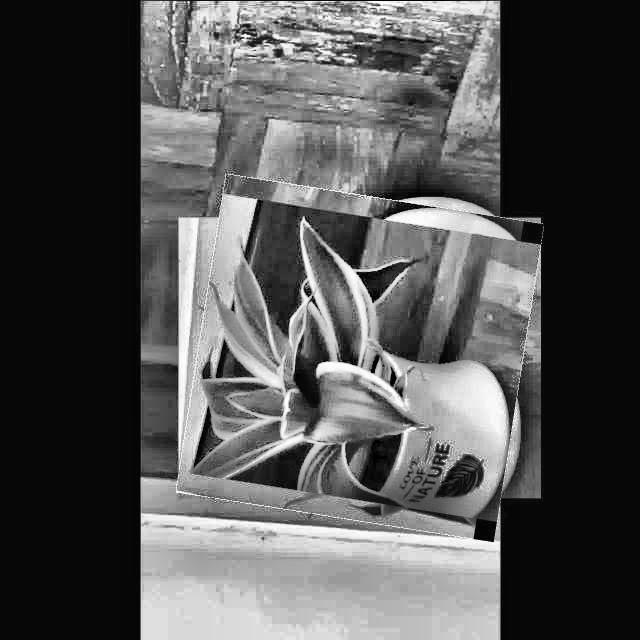plants: (187, 185, 532, 530)
